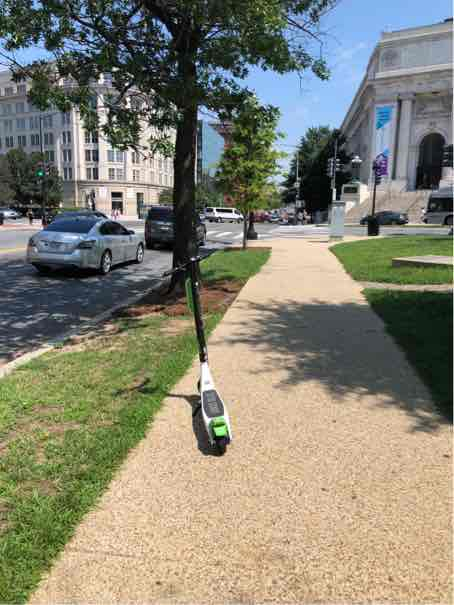scooter: (145, 247, 240, 460)
